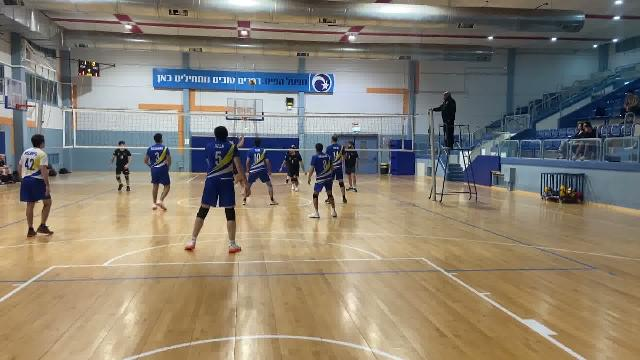ball: (247, 77, 258, 87)
